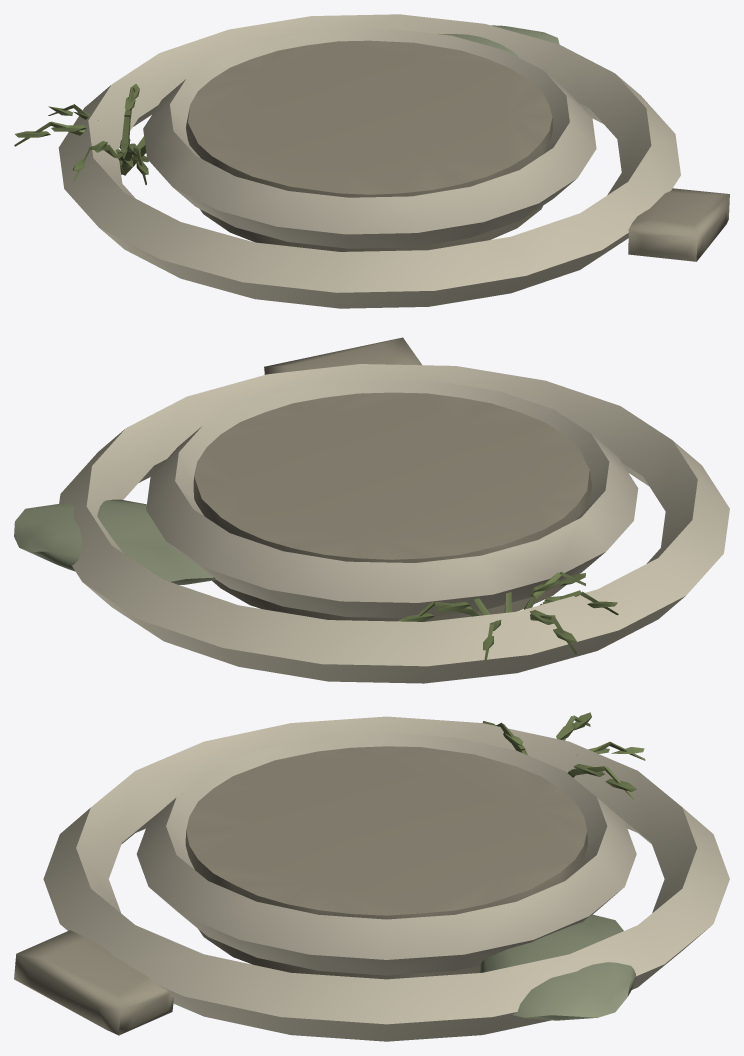
File: mist_rings_b_lod1.glb
The picture shows the model from 3 angles, top to bottom: view 1: azimuth 30°, elevation 25°; view 2: azimuth 150°, elevation 25°; view 3: azimuth 270°, elevation 25°; orthographic projection. The views are drawn at different scales.
Visible parts, largest first — view 1: Surface.001; view 2: Surface.001; view 3: Surface.001.
Boxes of the visible parts, x1,y1,x2,y2 form: Surface.001: (14, 14, 729, 308); Surface.001: (14, 337, 729, 683); Surface.001: (14, 712, 729, 1041).
Bounding box in the file's own units: 4 × 0.54 × 4.17.
